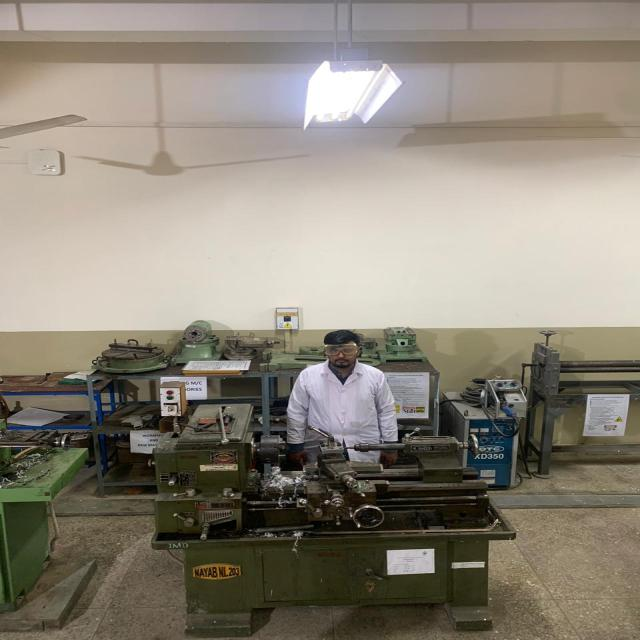googles: (322, 342, 362, 359)
labcoat: (285, 356, 401, 466)
